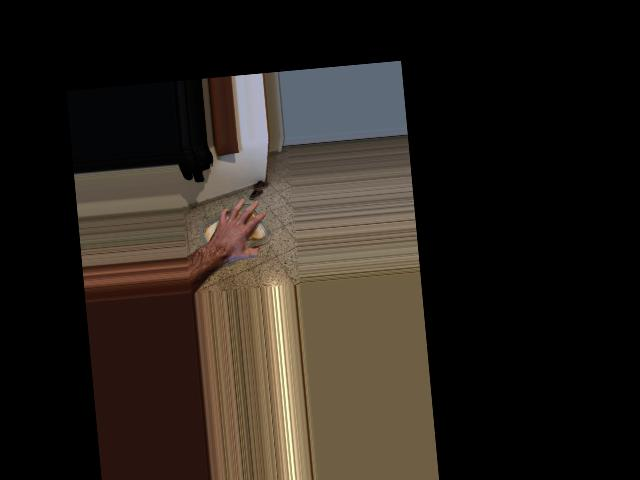cheese: (200, 198, 271, 268)
